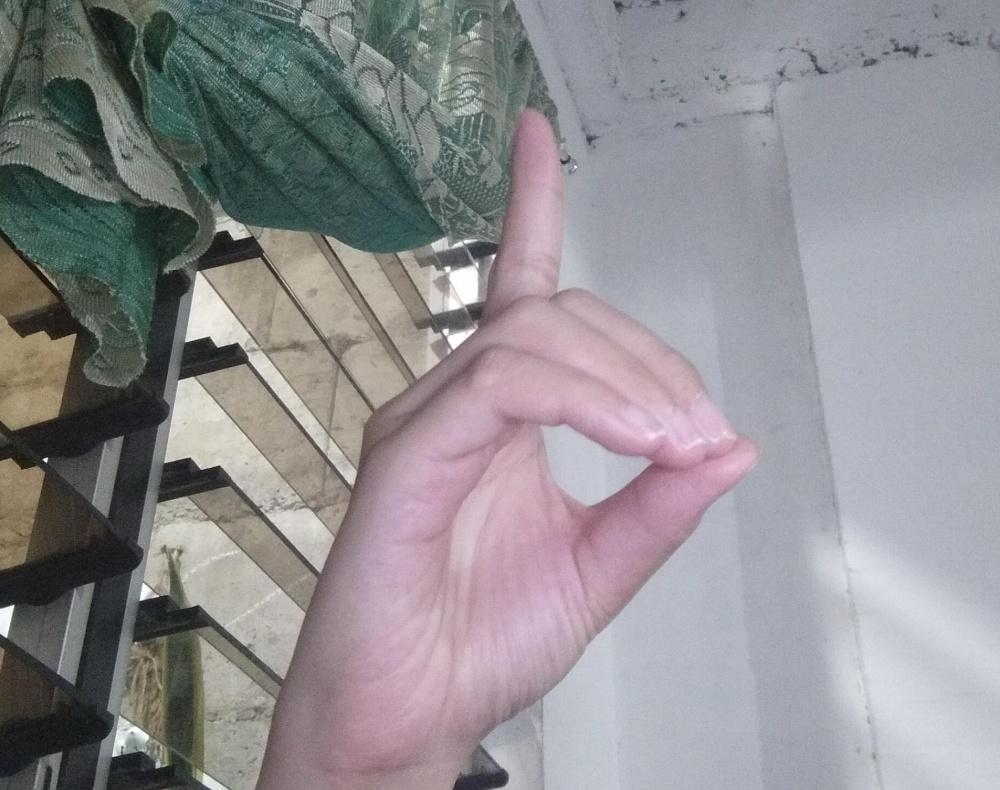d: (286, 103, 759, 762)
